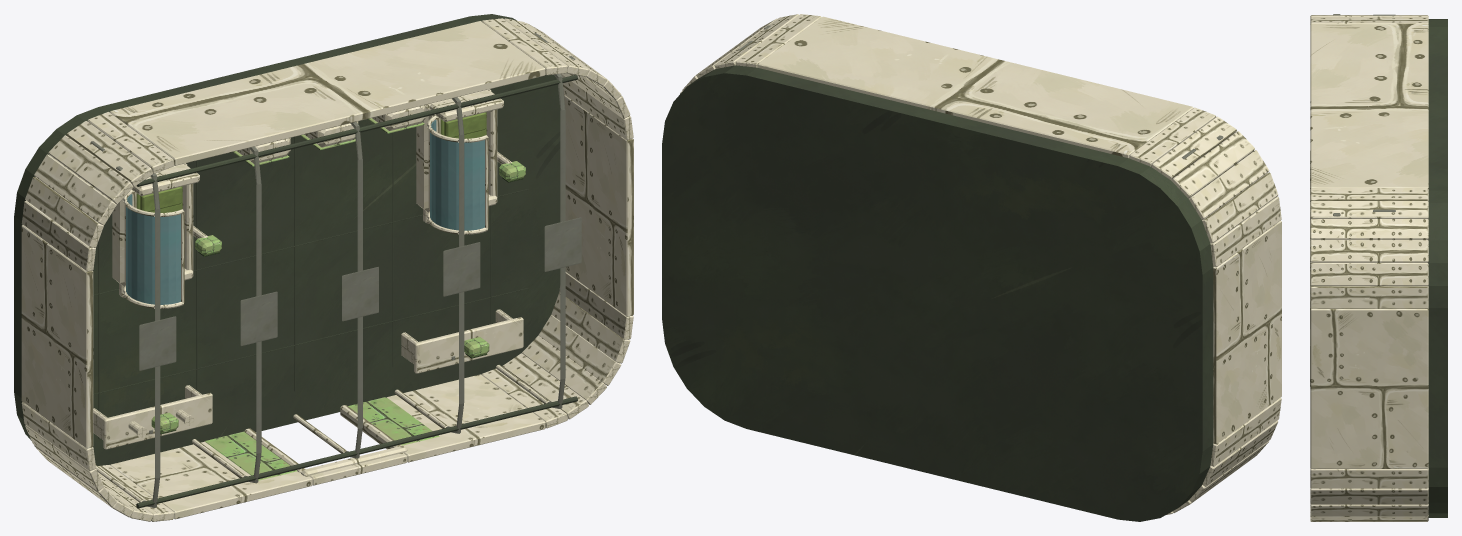
Rendered from ECHO7_05_Enfermeria_Laboratorio.obj.
3 views of the same model, side by side, from view 1: azimuth 30°, elevation 25°; view 2: azimuth 150°, elevation 25°; view 3: azimuth 270°, elevation 25° (orthographic). The views are drawn at different scales.
Parts seen in each view (by area): view 1: ECHO7_05_Enfermeria_Laboratorio__Suelo_modulo_01, ECHO7_05_Enfermeria_Laboratorio__Pared_presion_07, ECHO7_05_Enfermeria_Laboratorio__Pared_presion_14, ECHO7_05_Enfermeria_Laboratorio__Pared_presion_27, ECHO7_05_Enfermeria_Laboratorio__Pared_frente_01, ECHO7_05_Enfermeria_Laboratorio__Pared_frente_02, ECHO7_05_Enfermeria_Laboratorio__Mesa_tablero_02, ECHO7_05_Enfermeria_Laboratorio__Mesa_tablero_01, ECHO7_05_Enfermeria_Laboratorio__Conducto_superior_01, ECHO7_05_Enfermeria_Laboratorio__Conducto_superior_02, ECHO7_05_Enfermeria_Laboratorio__Pared_presion_11, ECHO7_05_Enfermeria_Laboratorio__Pared_presion_10 (+46 smaller); view 2: ECHO7_05_Enfermeria_Laboratorio__Suelo_modulo_01, ECHO7_05_Enfermeria_Laboratorio__Pared_presion_07, ECHO7_05_Enfermeria_Laboratorio__Pared_presion_14, ECHO7_05_Enfermeria_Laboratorio__Pared_presion_11, ECHO7_05_Enfermeria_Laboratorio__Pared_presion_10, ECHO7_05_Enfermeria_Laboratorio__Pared_presion_12, ECHO7_05_Enfermeria_Laboratorio__Pared_presion_09, ECHO7_05_Enfermeria_Laboratorio__Pared_presion_13, ECHO7_05_Enfermeria_Laboratorio__Pared_presion_08, ECHO7_05_Enfermeria_Laboratorio__Pared_presion_15, ECHO7_05_Enfermeria_Laboratorio__Pared_presion_06, ECHO7_05_Enfermeria_Laboratorio__Pared_presion_16 (+1 smaller); view 3: ECHO7_05_Enfermeria_Laboratorio__Pared_presion_07, ECHO7_05_Enfermeria_Laboratorio__Pared_presion_27, ECHO7_05_Enfermeria_Laboratorio__Suelo_modulo_01, ECHO7_05_Enfermeria_Laboratorio__Pared_presion_03, ECHO7_05_Enfermeria_Laboratorio__Pared_presion_02, ECHO7_05_Enfermeria_Laboratorio__Pared_presion_01, ECHO7_05_Enfermeria_Laboratorio__Pared_presion_04, ECHO7_05_Enfermeria_Laboratorio__Pared_presion_26, ECHO7_05_Enfermeria_Laboratorio__Pared_presion_05, ECHO7_05_Enfermeria_Laboratorio__Pared_presion_25, ECHO7_05_Enfermeria_Laboratorio__Pared_presion_06, ECHO7_05_Enfermeria_Laboratorio__Pared_presion_24 (+3 smaller).
Part boxes in pixels (x1,y1,x2,y2): ECHO7_05_Enfermeria_Laboratorio__Suelo_modulo_01: (14,14,560,465); ECHO7_05_Enfermeria_Laboratorio__Pared_presion_07: (109,21,545,165); ECHO7_05_Enfermeria_Laboratorio__Pared_presion_14: (21,225,93,448); ECHO7_05_Enfermeria_Laboratorio__Pared_presion_27: (564,94,633,316); ECHO7_05_Enfermeria_Laboratorio__Pared_frente_01: (110,441,312,519); ECHO7_05_Enfermeria_Laboratorio__Pared_frente_02: (387,374,545,462); ECHO7_05_Enfermeria_Laboratorio__Mesa_tablero_02: (414,317,523,373); ECHO7_05_Enfermeria_Laboratorio__Mesa_tablero_01: (103,393,212,449); ECHO7_05_Enfermeria_Laboratorio__Conducto_superior_01: (136,396,577,508); ECHO7_05_Enfermeria_Laboratorio__Conducto_superior_02: (137,75,577,186); ECHO7_05_Enfermeria_Laboratorio__Pared_presion_11: (34,154,116,225); ECHO7_05_Enfermeria_Laboratorio__Pared_presion_10: (48,135,133,204); ECHO7_05_Enfermeria_Laboratorio__Suelo_modulo_01: (662,65,1213,521); ECHO7_05_Enfermeria_Laboratorio__Pared_presion_07: (757,16,1193,158); ECHO7_05_Enfermeria_Laboratorio__Pared_presion_14: (1213,220,1281,444); ECHO7_05_Enfermeria_Laboratorio__Pared_presion_11: (1189,150,1269,219); ECHO7_05_Enfermeria_Laboratorio__Pared_presion_10: (1171,131,1254,198); ECHO7_05_Enfermeria_Laboratorio__Pared_presion_12: (1202,172,1278,243); ECHO7_05_Enfermeria_Laboratorio__Pared_presion_09: (1151,116,1236,180); ECHO7_05_Enfermeria_Laboratorio__Pared_presion_13: (1210,196,1281,267); ECHO7_05_Enfermeria_Laboratorio__Pared_presion_08: (1129,107,1215,166); ECHO7_05_Enfermeria_Laboratorio__Pared_presion_15: (1210,397,1281,466); ECHO7_05_Enfermeria_Laboratorio__Pared_presion_06: (735,14,821,67); ECHO7_05_Enfermeria_Laboratorio__Pared_presion_16: (1202,420,1278,486); ECHO7_05_Enfermeria_Laboratorio__Pared_presion_07: (1310,23,1428,188); ECHO7_05_Enfermeria_Laboratorio__Pared_presion_27: (1310,308,1428,468); ECHO7_05_Enfermeria_Laboratorio__Suelo_modulo_01: (1428,19,1447,517); ECHO7_05_Enfermeria_Laboratorio__Pared_presion_03: (1310,239,1428,262); ECHO7_05_Enfermeria_Laboratorio__Pared_presion_02: (1310,263,1428,285); ECHO7_05_Enfermeria_Laboratorio__Pared_presion_01: (1310,286,1428,308); ECHO7_05_Enfermeria_Laboratorio__Pared_presion_04: (1310,218,1428,240); ECHO7_05_Enfermeria_Laboratorio__Pared_presion_26: (1310,468,1428,488); ECHO7_05_Enfermeria_Laboratorio__Pared_presion_05: (1310,201,1428,219); ECHO7_05_Enfermeria_Laboratorio__Pared_presion_25: (1310,488,1428,504); ECHO7_05_Enfermeria_Laboratorio__Pared_presion_06: (1310,188,1428,201); ECHO7_05_Enfermeria_Laboratorio__Pared_presion_24: (1310,504,1428,516).
Size of the model in its own units: 16.22 by 10.35 by 3.91.
Materials: 8 (8 with a texture image).
